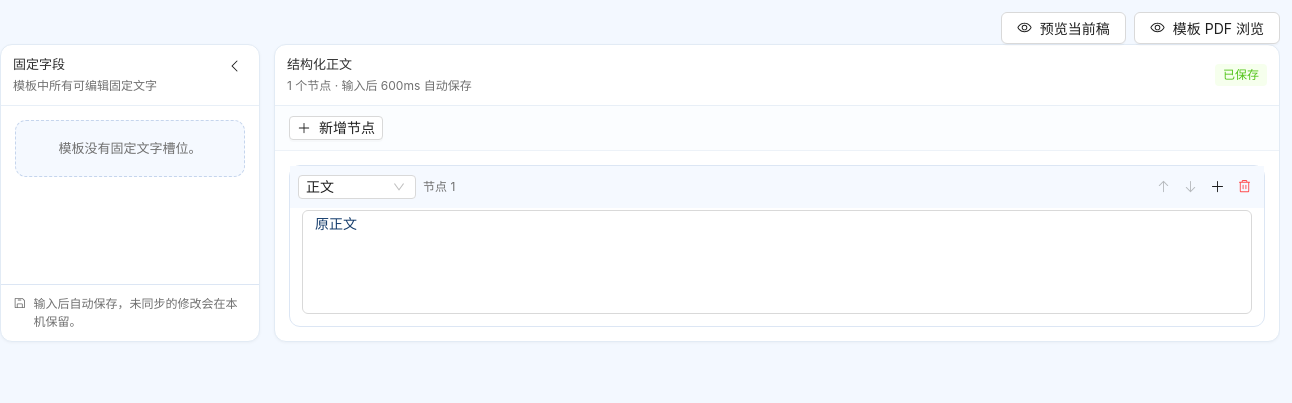
Test case: StructuredDraftEditor › an explicit save waits for the in-flight autosave and receives its failure
Replace the text in the text box named "正文节点 1" with "新正文". click: (777, 262)
box: [302,210,1252,314]
Wait 600 ms
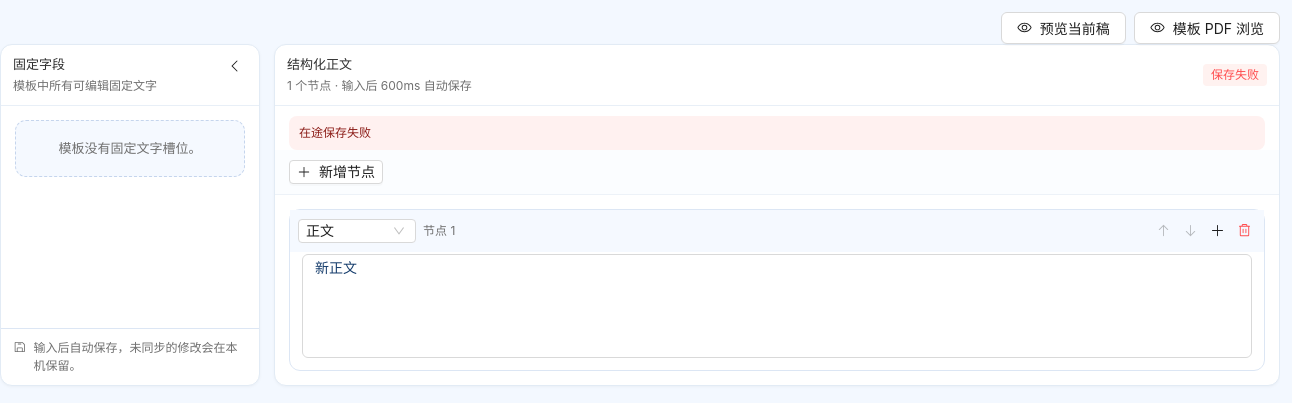
expect the text "保存失败" is shown: met, box [1203,64,1267,86]
